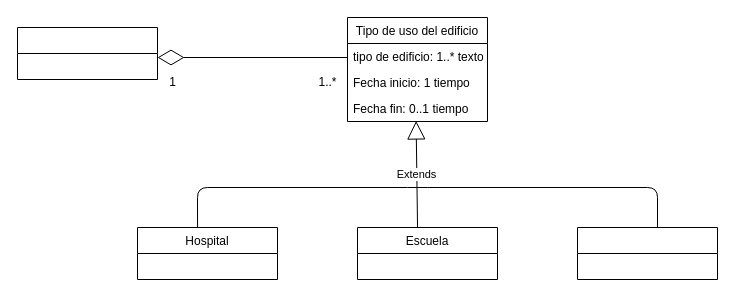
This 735x300 diagram has some shape labels left out. The shapes that lost their labels are listed below. From the top down, each one's centre as x and y in pixels, then its label:
At point 87,53: "Edificio".
At point 647,253: "Vivienda".
